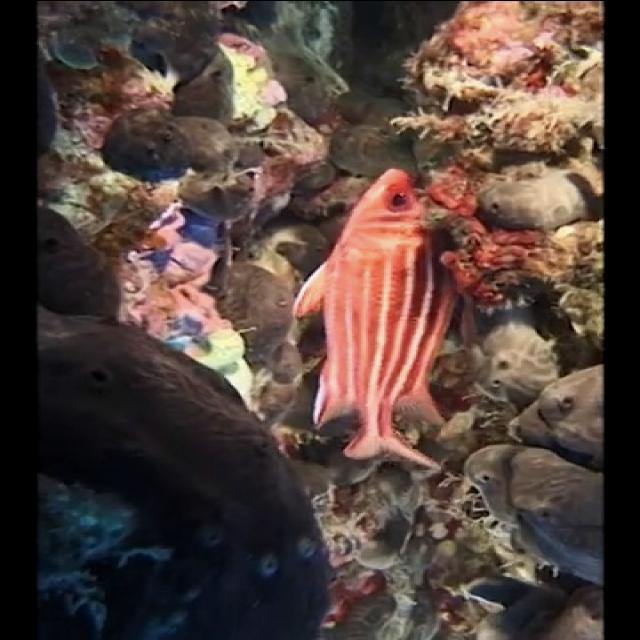Asker Baligi: (292, 166, 460, 472)
